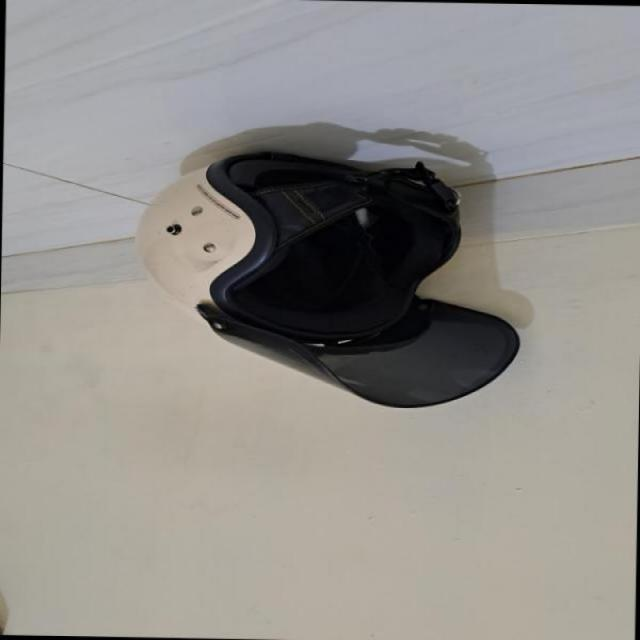Helmet: (120, 137, 531, 416)
